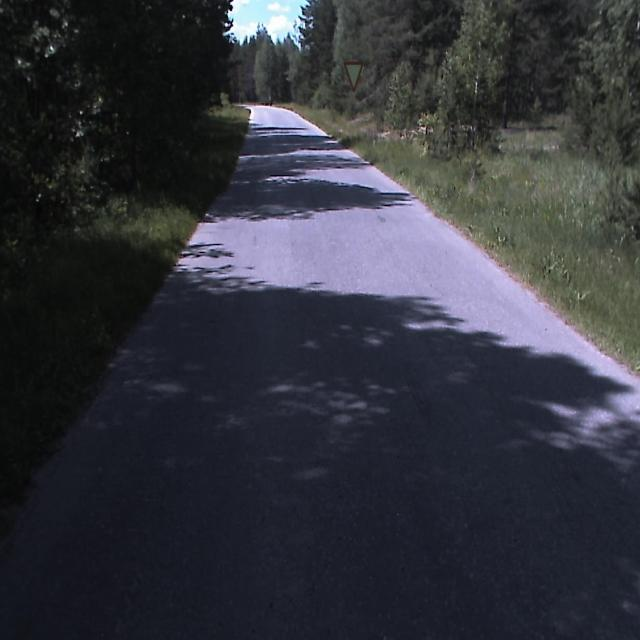road: (0, 109, 639, 639)
